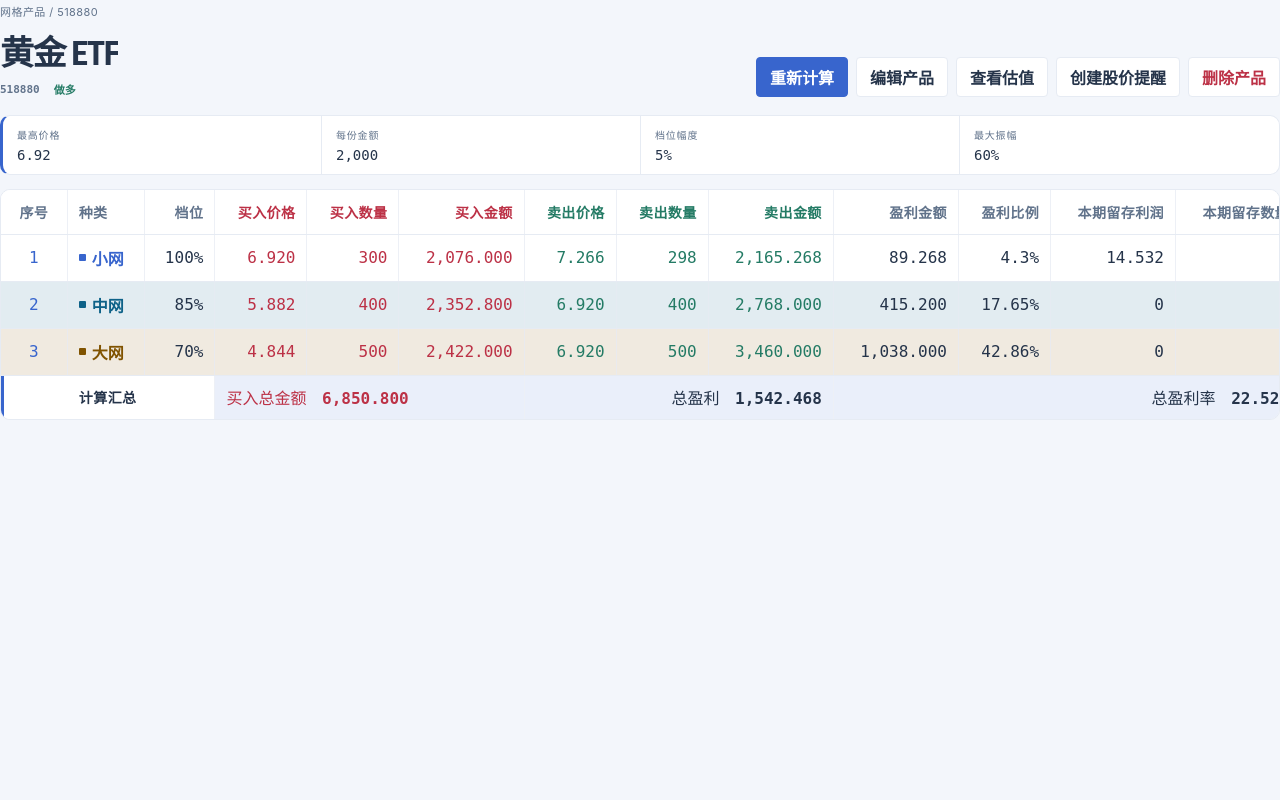
it: GridDetailView › opens the row inspector when any financial cell in a calculation row is clicked
The width and height of the screenshot is (1280, 800).
Expected: the row named "查看第 1 笔明细" is shown, [1,234,1279,281]
Step 1. Click the text "2,165.268" → (771, 258), box [708,234,833,281]
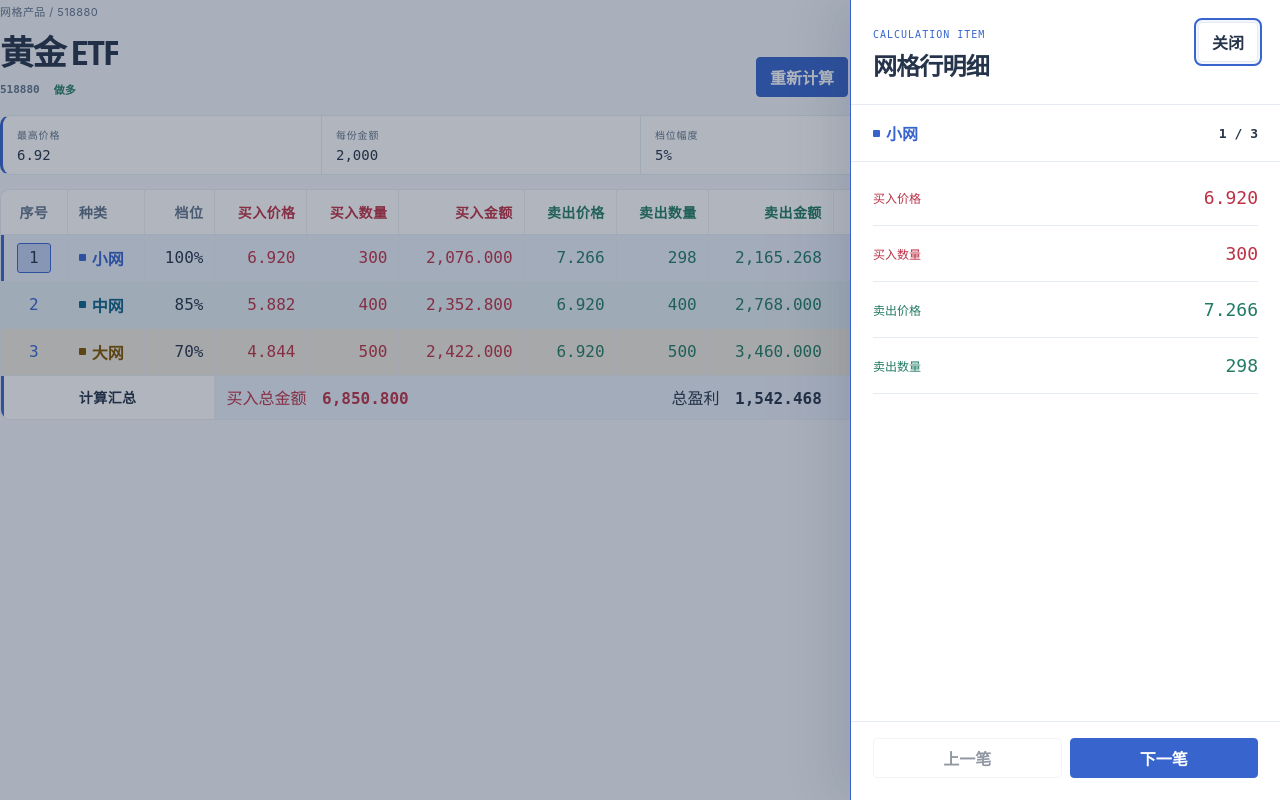
Expected: the dialog "网格行明细" shows "1 / 3", [850,0,1279,799]
